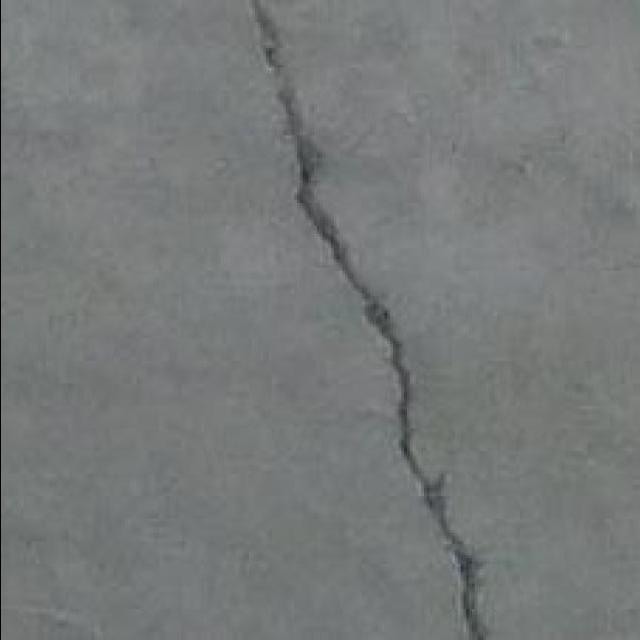Crack: (247, 0, 490, 638)
